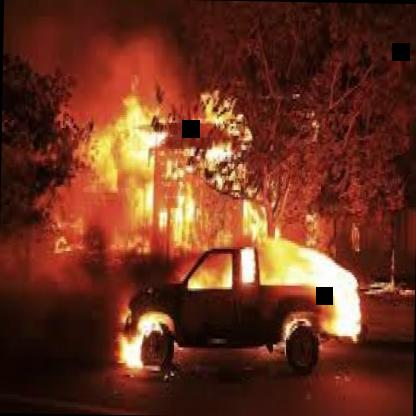fire: (114, 214, 368, 375), (110, 68, 271, 219)
